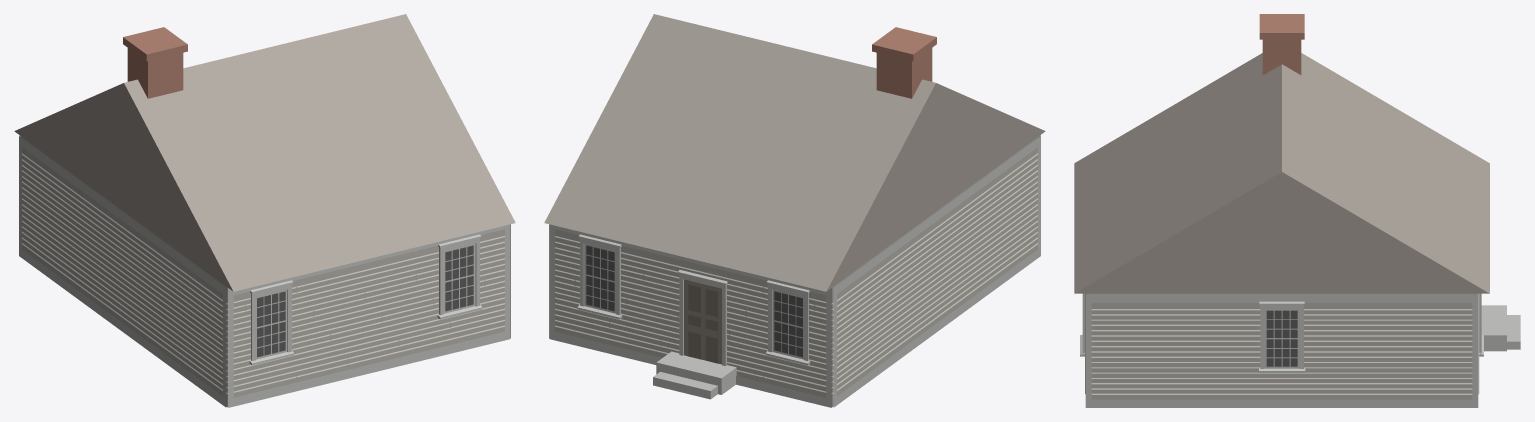
The model's file is recon_1835_west_032__inferred_1835.glb.
3 renders of one model, left to right at view 1: azimuth 30°, elevation 25°; view 2: azimuth 150°, elevation 25°; view 3: azimuth 270°, elevation 25°, orthographic. The views are drawn at different scales.
Visible parts, largest first — view 1: recon_1835_west_032__inferred_1835; view 2: recon_1835_west_032__inferred_1835; view 3: recon_1835_west_032__inferred_1835.
Part boxes in pixels (x1,y1,x2,y2): recon_1835_west_032__inferred_1835: (14,14,515,407); recon_1835_west_032__inferred_1835: (544,14,1045,407); recon_1835_west_032__inferred_1835: (1074,14,1520,407).
Size of the model in its own units: 6.86 by 6.43 by 9.7.
